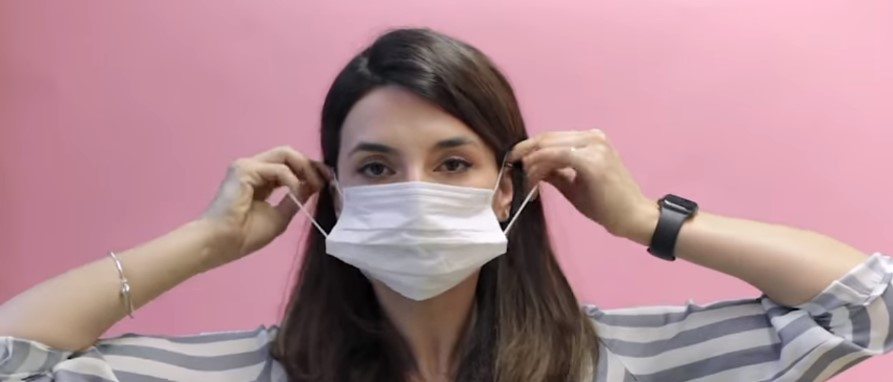face_with_mask: (312, 29, 523, 305)
